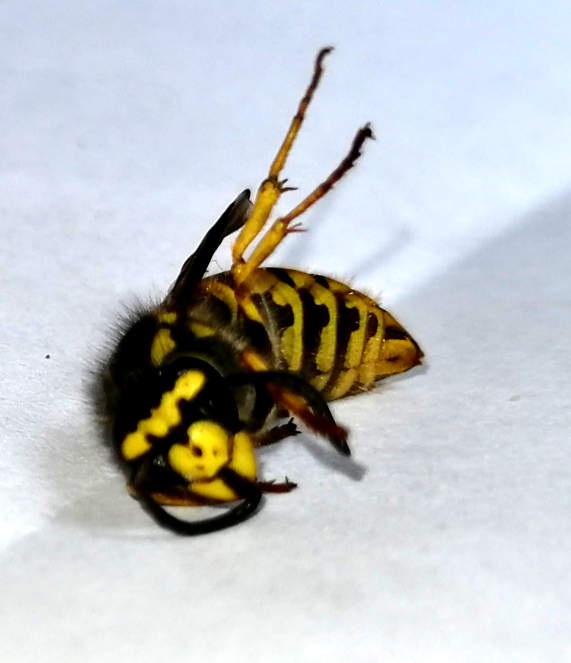chax: (82, 37, 443, 543)
